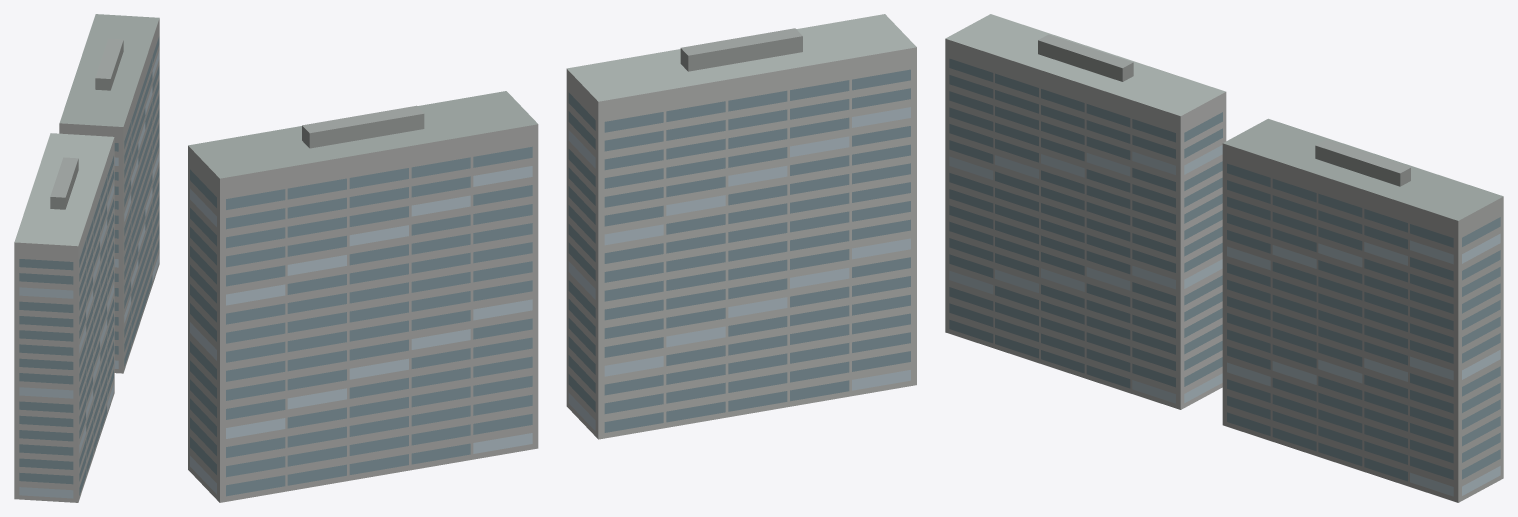
Rendered from apt-a10026910.glb.
3 views of the same model, side by side, from view 1: azimuth 30°, elevation 25°; view 2: azimuth 150°, elevation 25°; view 3: azimuth 270°, elevation 25° (orthographic). The views are drawn at different scales.
Visible parts, largest first — view 1: apt-a10026910; view 2: apt-a10026910; view 3: apt-a10026910.
Boxes of the visible parts, <box> form: apt-a10026910: <box>14,14,159,502</box>; apt-a10026910: <box>188,14,916,502</box>; apt-a10026910: <box>945,14,1503,502</box>.
Bounding box in the file's own units: 68.06 × 50 × 82.3.
